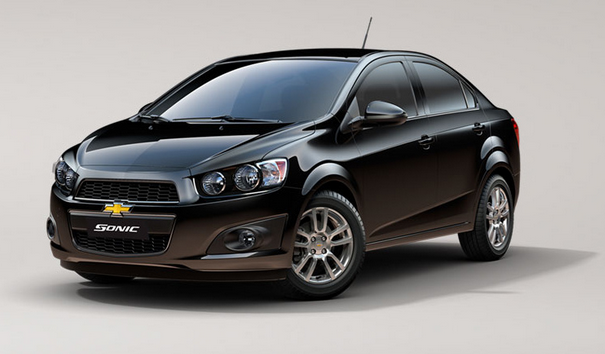sedan: (44, 45, 526, 301)
